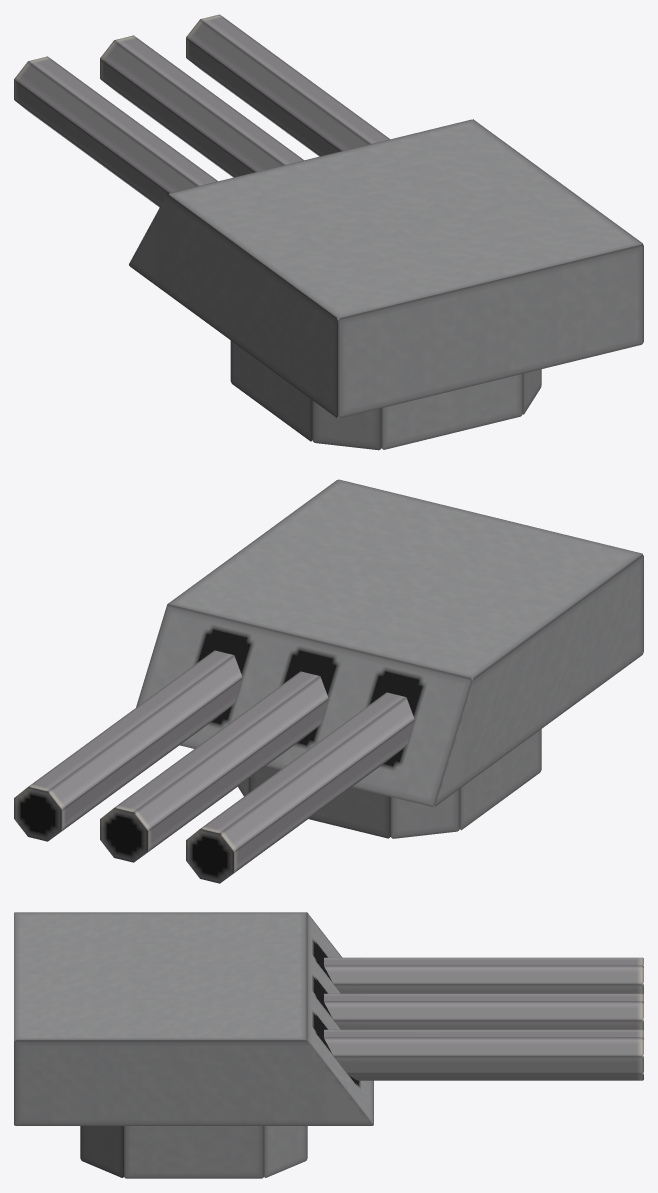
Rendered from naval_cannon.obj.
The picture shows the model from 3 angles, top to bottom: view 1: azimuth 30°, elevation 25°; view 2: azimuth 150°, elevation 25°; view 3: azimuth 270°, elevation 25°; orthographic projection. The views are drawn at different scales.
Visible parts, largest first — view 1: cylinder1, cylinder, cylinder3, cylinder2, cylinder4; view 2: cylinder1, cylinder2, cylinder3, cylinder4, cylinder; view 3: cylinder1, cylinder2, cylinder4, cylinder3, cylinder.
Boxes of the visible parts, left/top/right/bottom form: cylinder1: left=129, top=119, right=643, bottom=418; cylinder: left=230, top=340, right=541, bottom=450; cylinder3: left=14, top=56, right=217, bottom=207; cylinder2: left=186, top=14, right=389, bottom=156; cylinder4: left=100, top=35, right=303, bottom=177; cylinder1: left=136, top=479, right=643, bottom=806; cylinder2: left=14, top=650, right=242, bottom=841; cylinder3: left=186, top=692, right=414, bottom=883; cylinder4: left=100, top=671, right=328, bottom=862; cylinder: left=238, top=729, right=541, bottom=838; cylinder1: left=14, top=912, right=373, bottom=1125; cylinder2: left=324, top=1029, right=643, bottom=1080; cylinder4: left=324, top=993, right=643, bottom=1037; cylinder3: left=324, top=957, right=643, bottom=1001; cylinder: left=80, top=1126, right=307, bottom=1178.
Size of the model in its own units: 4 by 2.25 by 8.31.
